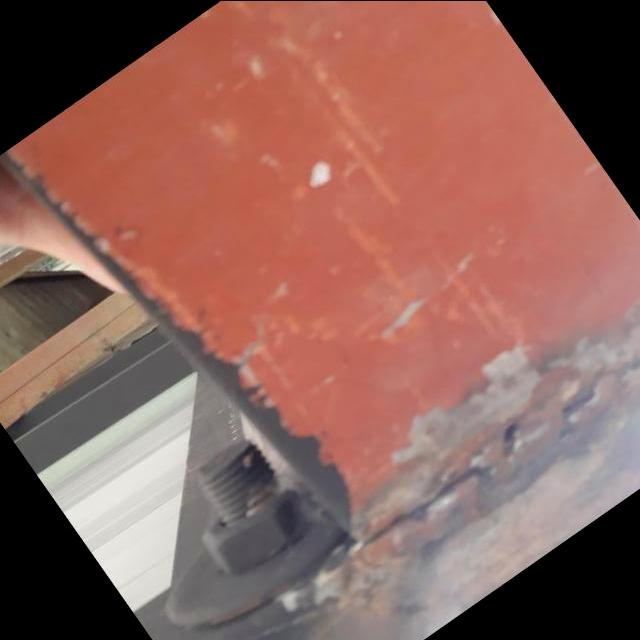defect: (356, 414, 524, 549), (550, 377, 606, 448)
